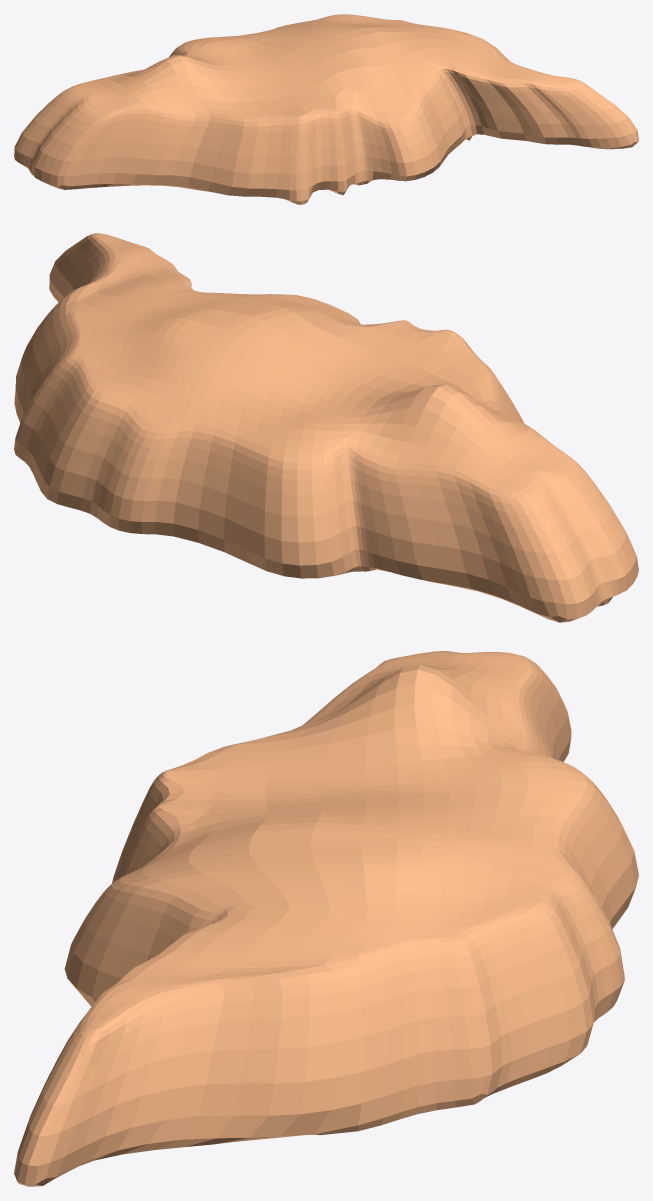
3 views of the same model, one above another, from view 1: azimuth 30°, elevation 25°; view 2: azimuth 150°, elevation 25°; view 3: azimuth 270°, elevation 25° (orthographic). The views are drawn at different scales.
Visible parts, largest first — view 1: 平面; view 2: 平面; view 3: 平面.
Part boxes in pixels (bbox=[...]): 平面: bbox=[14, 14, 638, 204]; 平面: bbox=[14, 233, 638, 622]; 平面: bbox=[14, 651, 638, 1186].
Size of the model in its own units: 427 by 83.73 by 247.
